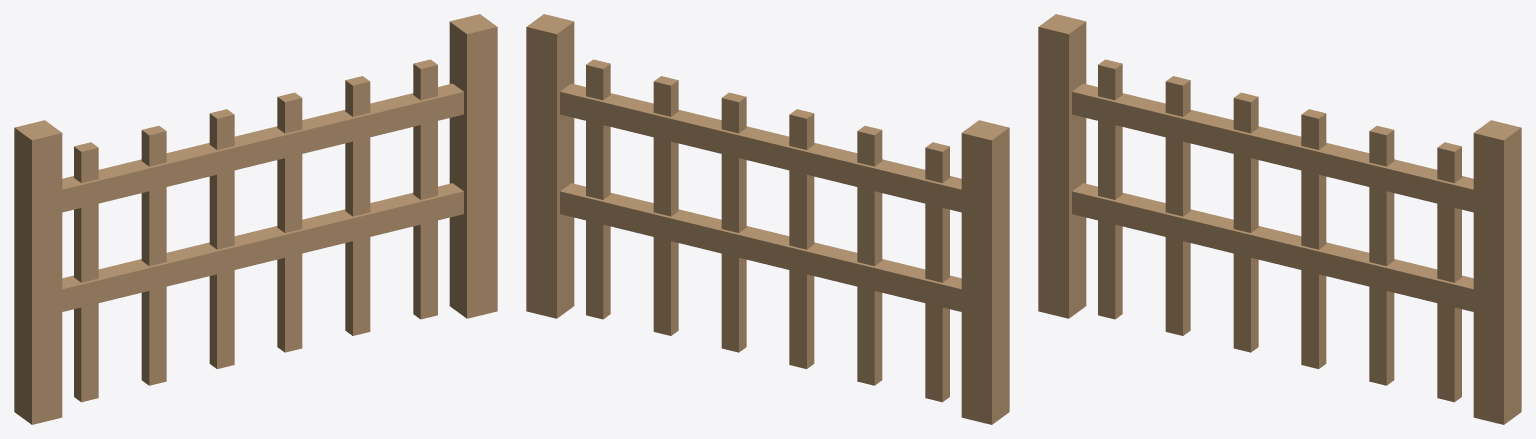
The model's file is PROP-fence-00.glb.
3 renders of one model, left to right at view 1: azimuth 30°, elevation 25°; view 2: azimuth 150°, elevation 25°; view 3: azimuth 330°, elevation 25°, orthographic.
Visible parts, largest first — view 1: PROP-fence-00; view 2: PROP-fence-00; view 3: PROP-fence-00.
Boxes of the visible parts, x1,y1,x2,y2 form: PROP-fence-00: [14, 14, 497, 424]; PROP-fence-00: [526, 14, 1009, 424]; PROP-fence-00: [1038, 14, 1521, 424].
Size of the model in its own units: 2.14 by 1.25 by 0.14.
